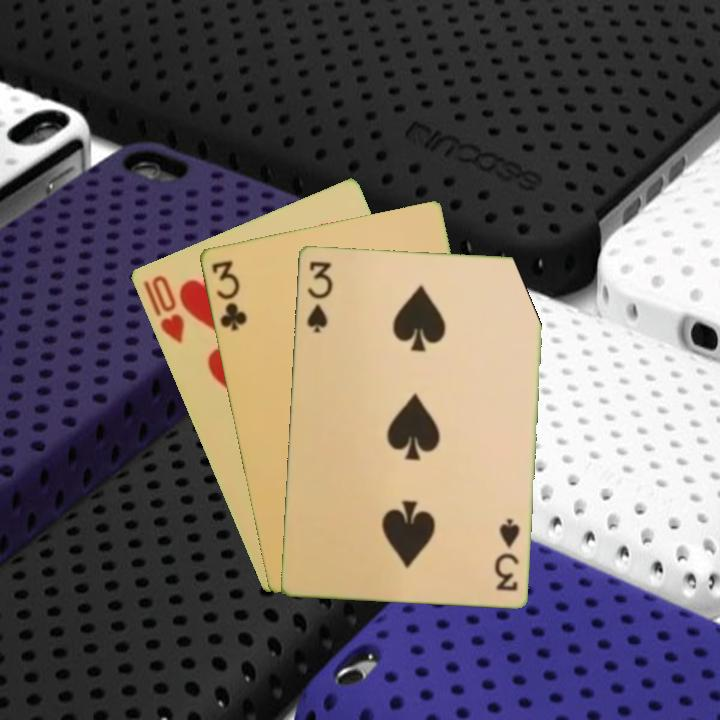10h: (139, 271, 187, 346)
3c: (207, 256, 250, 334)
3s: (490, 514, 522, 594), (303, 257, 335, 336)
